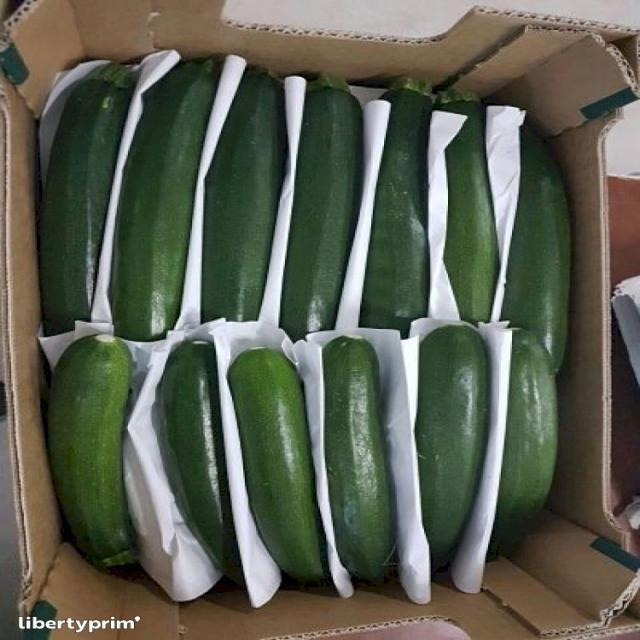Zucchini: (280, 75, 372, 339)
